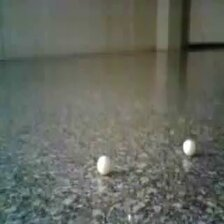w: (97, 156, 110, 174), (183, 139, 196, 156)
